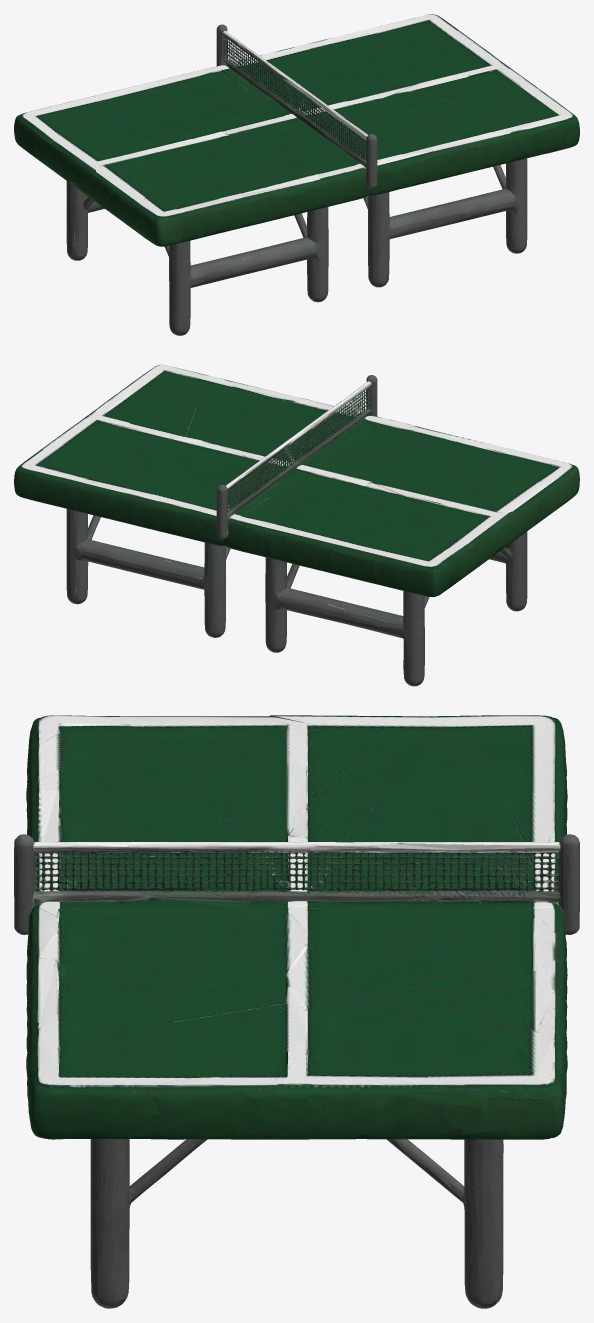
The model's file is pingpong.glb.
3 renders of one model, top to bottom at view 1: azimuth 30°, elevation 25°; view 2: azimuth 150°, elevation 25°; view 3: azimuth 270°, elevation 25°, orthographic. The views are drawn at different scales.
Size of the model in its own units: 1.9 by 0.7497 by 1.2.
1 material, 1 textured.
